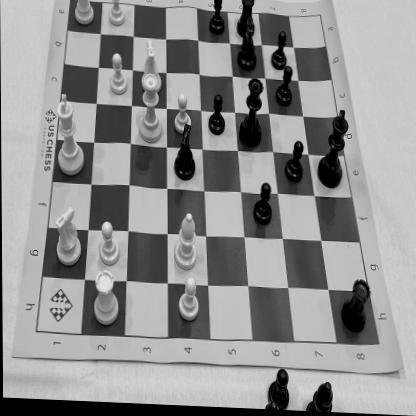black-king: (318, 104, 350, 192)
black-knight: (171, 124, 200, 186), (237, 17, 256, 73)
black-pawn: (283, 138, 306, 186), (206, 94, 227, 140), (274, 64, 294, 110), (252, 182, 272, 228), (269, 29, 288, 71), (206, 0, 226, 38)
black-queen: (237, 76, 265, 154)
black-rook: (339, 274, 371, 336), (235, 0, 258, 43)
white-bishop: (170, 212, 199, 274)
white-king: (52, 94, 86, 182)
white-knight: (49, 205, 84, 272), (140, 40, 164, 98)
white-pawn: (174, 275, 201, 328), (106, 54, 131, 100), (98, 221, 120, 270), (171, 90, 193, 137), (106, 0, 128, 32)
white-queen: (138, 74, 166, 148)
white-rook: (90, 271, 120, 330), (71, 0, 96, 31)
